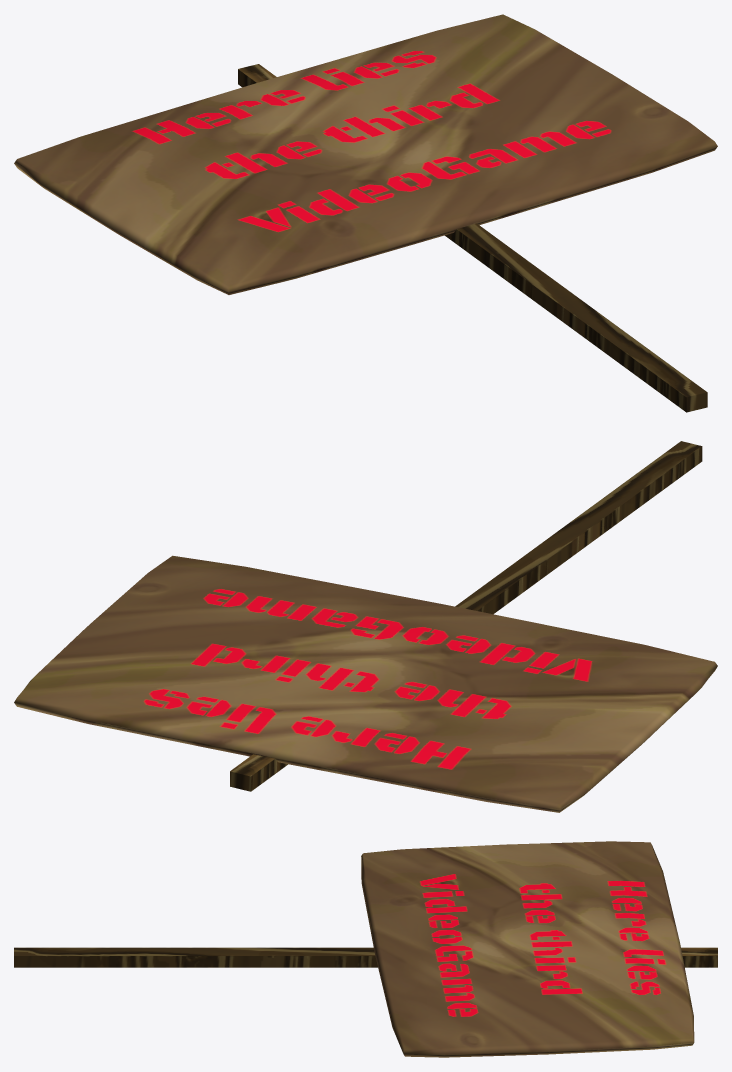
The model's file is Cartel.glb.
The picture shows the model from 3 angles, top to bottom: view 1: azimuth 30°, elevation 25°; view 2: azimuth 150°, elevation 25°; view 3: azimuth 270°, elevation 25°; orthographic projection. The views are drawn at different scales.
Visible parts, largest first — view 1: pCube3, pCube2; view 2: pCube3, pCube2; view 3: pCube3, pCube2.
Boxes of the visible parts, x1,y1,x2,y2 form: pCube3: (14, 14, 717, 294); pCube2: (238, 64, 707, 412); pCube3: (14, 555, 717, 812); pCube2: (230, 441, 702, 791); pCube3: (361, 841, 694, 1057); pCube2: (14, 947, 717, 967).
Bounding box in the file's own units: 0.0958 × 0.00502 × 0.1355.
2 materials, 2 textured.
